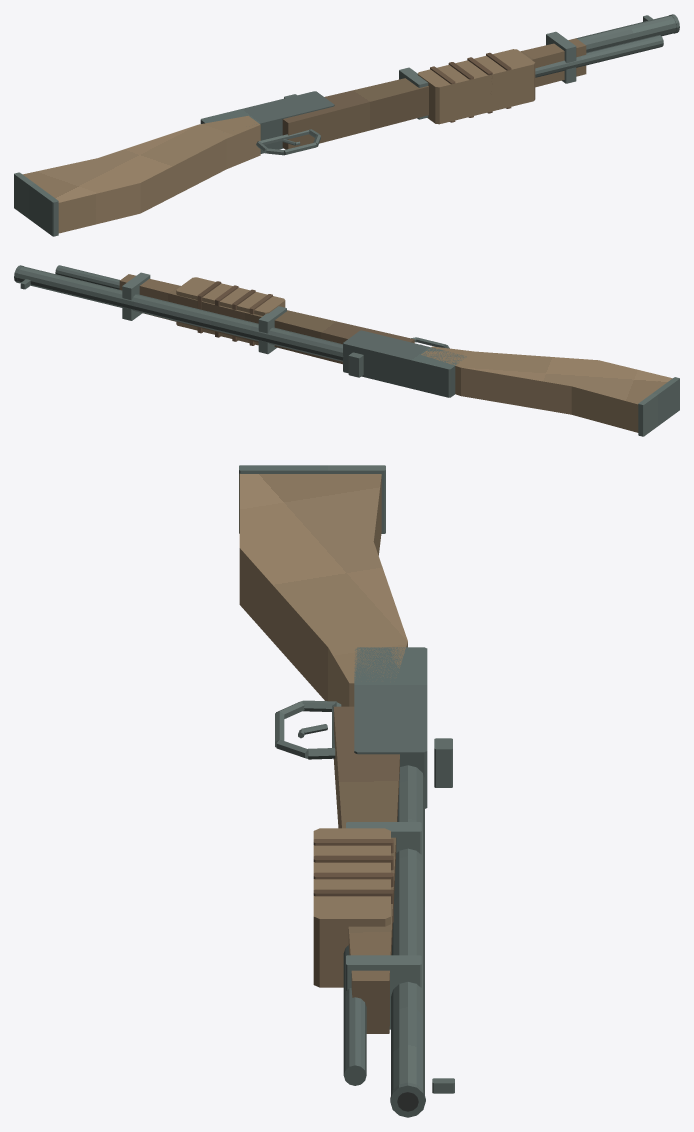
Rendered from weapon-winchester-1897.glb.
3 renders of one model, top to bottom at view 1: azimuth 30°, elevation 25°; view 2: azimuth 150°, elevation 25°; view 3: azimuth 270°, elevation 25°, orthographic. The views are drawn at different scales.
Visible parts, largest first — view 1: weapon-winchester-1897/shaped-solid-butt, weapon-winchester-1897/tapered-full-depth-forend, weapon-winchester-1897/short-ribbed-pump-wood, weapon-winchester-1897/central-receiver, weapon-winchester-1897/butt-end-plate, weapon-winchester-1897/long-barrel, weapon-winchester-1897/under-barrel-long-tube, weapon-winchester-1897/stock-band-1, weapon-winchester-1897/stock-band-0; view 2: weapon-winchester-1897/shaped-solid-butt, weapon-winchester-1897/long-barrel, weapon-winchester-1897/central-receiver, weapon-winchester-1897/tapered-full-depth-forend, weapon-winchester-1897/short-ribbed-pump-wood, weapon-winchester-1897/butt-end-plate, weapon-winchester-1897/under-barrel-long-tube, weapon-winchester-1897/stock-band-1, weapon-winchester-1897/stock-band-0, weapon-winchester-1897/rear-sight; view 3: weapon-winchester-1897/shaped-solid-butt, weapon-winchester-1897/tapered-full-depth-forend, weapon-winchester-1897/central-receiver, weapon-winchester-1897/long-barrel, weapon-winchester-1897/short-ribbed-pump-wood, weapon-winchester-1897/under-barrel-long-tube, weapon-winchester-1897/stock-band-1, weapon-winchester-1897/butt-end-plate, weapon-winchester-1897/stock-band-0, weapon-winchester-1897/rear-sight.
Part boxes in pixels (x1,y1,x2,y2): weapon-winchester-1897/shaped-solid-butt: (23, 115, 260, 233); weapon-winchester-1897/tapered-full-depth-forend: (282, 38, 586, 149); weapon-winchester-1897/short-ribbed-pump-wood: (417, 49, 535, 124); weapon-winchester-1897/central-receiver: (200, 91, 334, 153); weapon-winchester-1897/butt-end-plate: (14, 172, 58, 236); weapon-winchester-1897/long-barrel: (576, 15, 676, 52); weapon-winchester-1897/under-barrel-long-tube: (535, 35, 663, 77); weapon-winchester-1897/stock-band-1: (546, 31, 576, 83); weapon-winchester-1897/stock-band-0: (399, 67, 428, 119); weapon-winchester-1897/shaped-solid-butt: (421, 346, 672, 432); weapon-winchester-1897/long-barrel: (17, 266, 343, 361); weapon-winchester-1897/central-receiver: (343, 330, 466, 397); weapon-winchester-1897/tapered-full-depth-forend: (119, 274, 414, 364); weapon-winchester-1897/short-ribbed-pump-wood: (176, 277, 285, 345); weapon-winchester-1897/butt-end-plate: (638, 377, 679, 436); weapon-winchester-1897/under-barrel-long-tube: (55, 265, 119, 289); weapon-winchester-1897/stock-band-1: (122, 272, 150, 320); weapon-winchester-1897/stock-band-0: (258, 306, 286, 354); weapon-winchester-1897/rear-sight: (348, 352, 363, 377); weapon-winchester-1897/shaped-solid-butt: (239, 474, 407, 706); weapon-winchester-1897/tapered-full-depth-forend: (333, 706, 399, 1033); weapon-winchester-1897/central-receiver: (354, 647, 427, 808); weapon-winchester-1897/long-barrel: (391, 765, 424, 1094); weapon-winchester-1897/short-ribbed-pump-wood: (313, 828, 390, 987); weapon-winchester-1897/under-barrel-long-tube: (343, 945, 366, 1085); weapon-winchester-1897/stock-band-1: (346, 955, 421, 1029); weapon-winchester-1897/butt-end-plate: (239, 465, 385, 533); weapon-winchester-1897/stock-band-0: (346, 822, 421, 854); weapon-winchester-1897/rear-sight: (434, 738, 452, 787).
Size of the model in its own units: 1 by 0.057 by 0.1515.
Materials: 4 (4 with a texture image).
